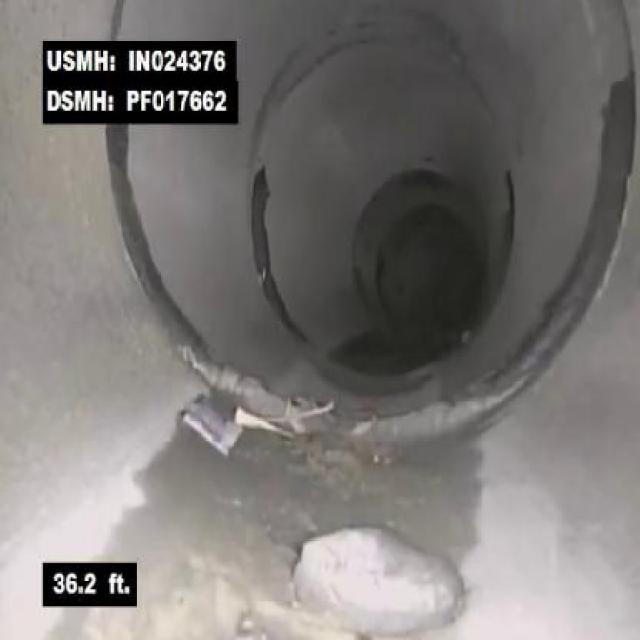Debris: (251, 484, 500, 638)
